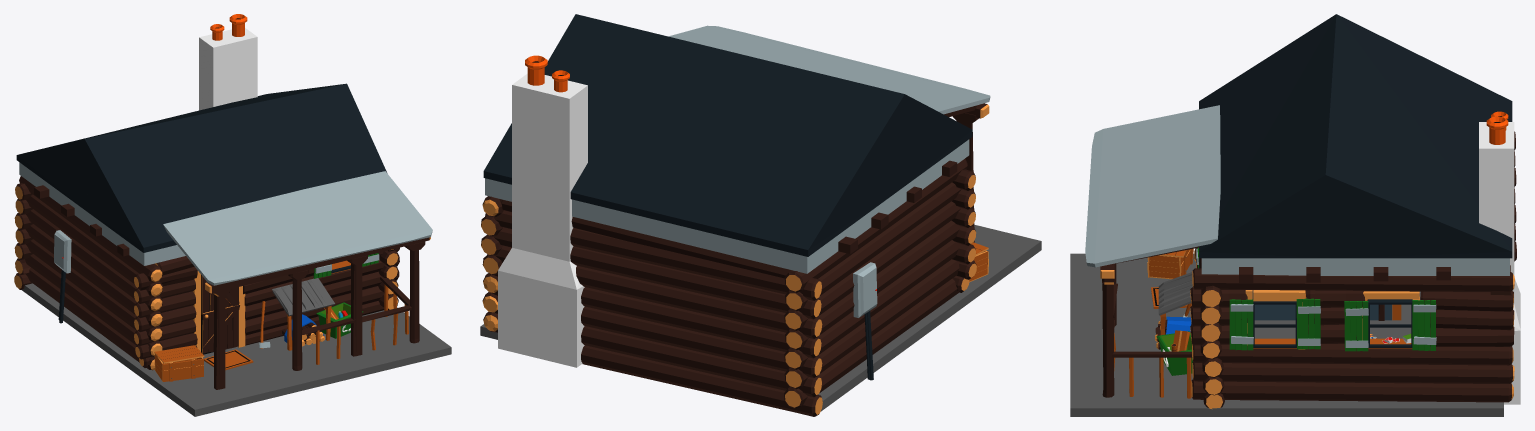
File: cabin_2.obj
3 views of the same model, side by side, from view 1: azimuth 30°, elevation 25°; view 2: azimuth 150°, elevation 25°; view 3: azimuth 270°, elevation 25° (orthographic). The views are drawn at different scales.
Parts seen in each view (by area): view 1: group155880449, group1249612197, group1586743875, group1250466418, group14942143, group385332886, group690343594, group2096568958, group1317001952, group1843786430, group286457790, group1796488872 (+24 smaller); view 2: group385332886, group1317001952, group14942143, group1250466418, group690343594, group1249612197, group1586743875, group155880449, group386898959, group2145860086, group1418661774; view 3: group385332886, group155880449, group1586743875, group1249612197, group832684256, group1700492783, group1856994920, group690343594, group730840630, group14942143, group1008650552, group2048264474 (+20 smaller).
Part boxes in pixels (bbox=[...]): group155880449: bbox=[84, 83, 387, 252]; group1249612197: bbox=[163, 171, 432, 285]; group1586743875: bbox=[22, 283, 451, 416]; group1250466418: bbox=[19, 176, 162, 370]; group14942143: bbox=[199, 28, 257, 110]; group385332886: bbox=[16, 84, 344, 211]; group690343594: bbox=[19, 162, 185, 265]; group2096568958: bbox=[201, 275, 239, 354]; group1317001952: bbox=[14, 183, 32, 289]; group1843786430: bbox=[205, 237, 430, 293]; group286457790: bbox=[272, 278, 335, 316]; group1796488872: bbox=[245, 286, 384, 335]; group385332886: bbox=[483, 14, 904, 256]; group1317001952: bbox=[570, 228, 822, 416]; group14942143: bbox=[498, 73, 587, 367]; group1250466418: bbox=[784, 158, 967, 408]; group690343594: bbox=[485, 139, 969, 273]; group1249612197: bbox=[668, 25, 990, 116]; group1586743875: bbox=[480, 224, 1041, 416]; group155880449: bbox=[900, 94, 972, 188]; group386898959: bbox=[501, 199, 791, 278]; group2145860086: bbox=[853, 262, 877, 380]; group1418661774: bbox=[525, 55, 547, 85]; group385332886: bbox=[1325, 14, 1512, 258]; group155880449: bbox=[1199, 14, 1336, 258]; group1586743875: bbox=[1070, 253, 1503, 416]; group1249612197: bbox=[1085, 105, 1220, 267]; group832684256: bbox=[1192, 362, 1514, 383]; group1700492783: bbox=[1191, 379, 1513, 402]; group1856994920: bbox=[1192, 343, 1513, 365]; group690343594: bbox=[1201, 258, 1509, 275]; group730840630: bbox=[1192, 268, 1514, 291]; group14942143: bbox=[1479, 122, 1520, 404]; group1008650552: bbox=[1229, 298, 1320, 350]; group2048264474: bbox=[1420, 291, 1513, 311].
Size of the model in its own units: 1.6 by 1.26 by 1.87.
